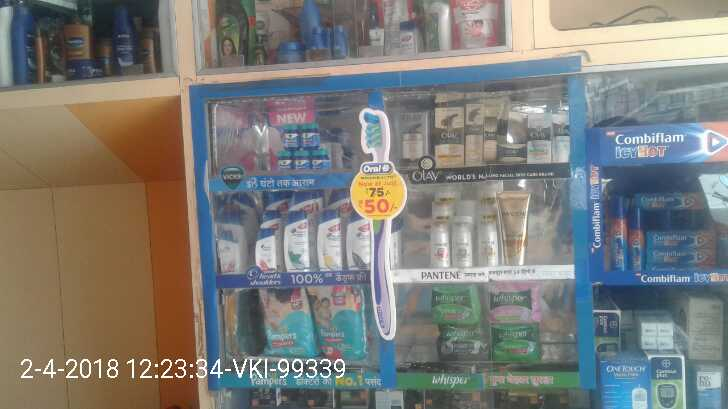vicks: (277, 121, 328, 174)
